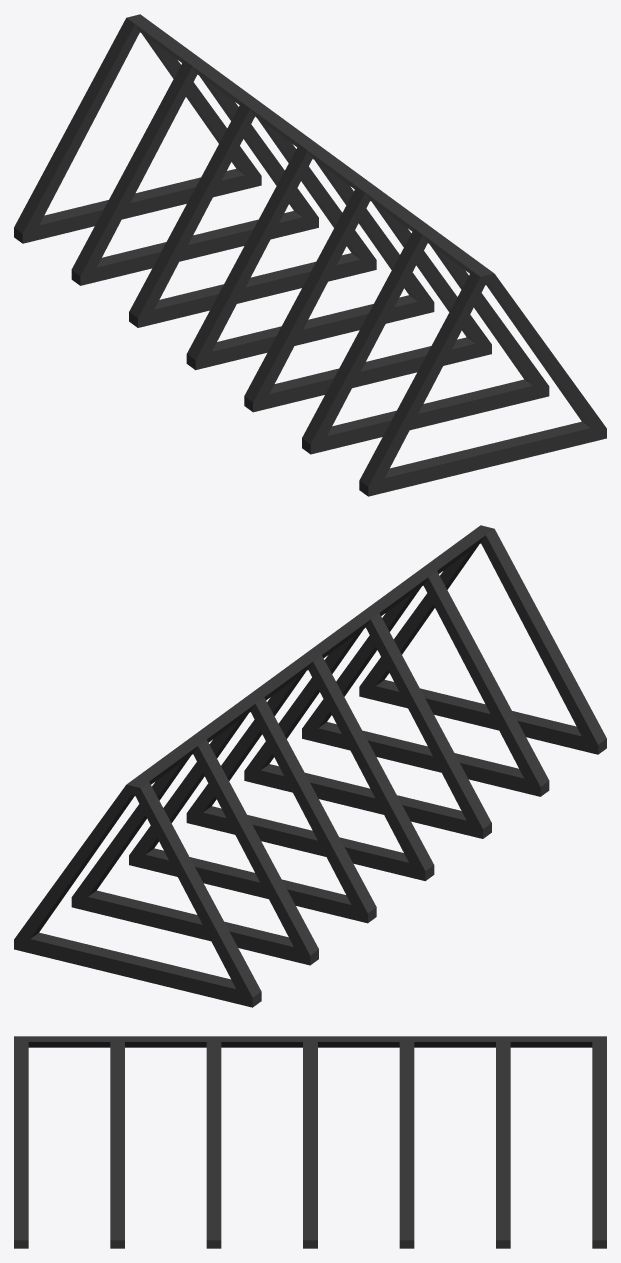
The model's file is Stojan_Na_Kola.fbx.
The picture shows the model from 3 angles, top to bottom: view 1: azimuth 30°, elevation 25°; view 2: azimuth 150°, elevation 25°; view 3: azimuth 270°, elevation 25°; orthographic projection. The views are drawn at different scales.
Visible parts, largest first — view 1: Stojan_Na_Kola; view 2: Stojan_Na_Kola; view 3: Stojan_Na_Kola.
Part boxes in pixels (x1,y1,x2,y2): Stojan_Na_Kola: (14, 14, 606, 496); Stojan_Na_Kola: (14, 525, 606, 1007); Stojan_Na_Kola: (14, 1036, 606, 1248).
Size of the model in its own units: 74.13 by 57.05 by 191.
